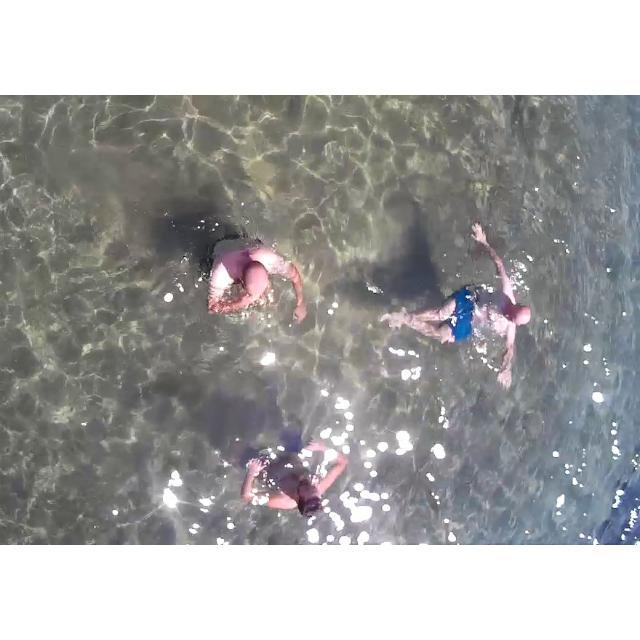human: (384, 206, 528, 396), (194, 208, 314, 341), (229, 418, 357, 514)
